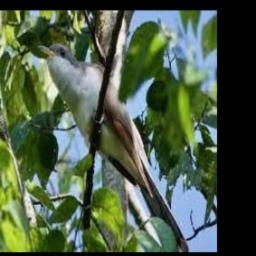Cuckoo: (38, 43, 190, 252)
